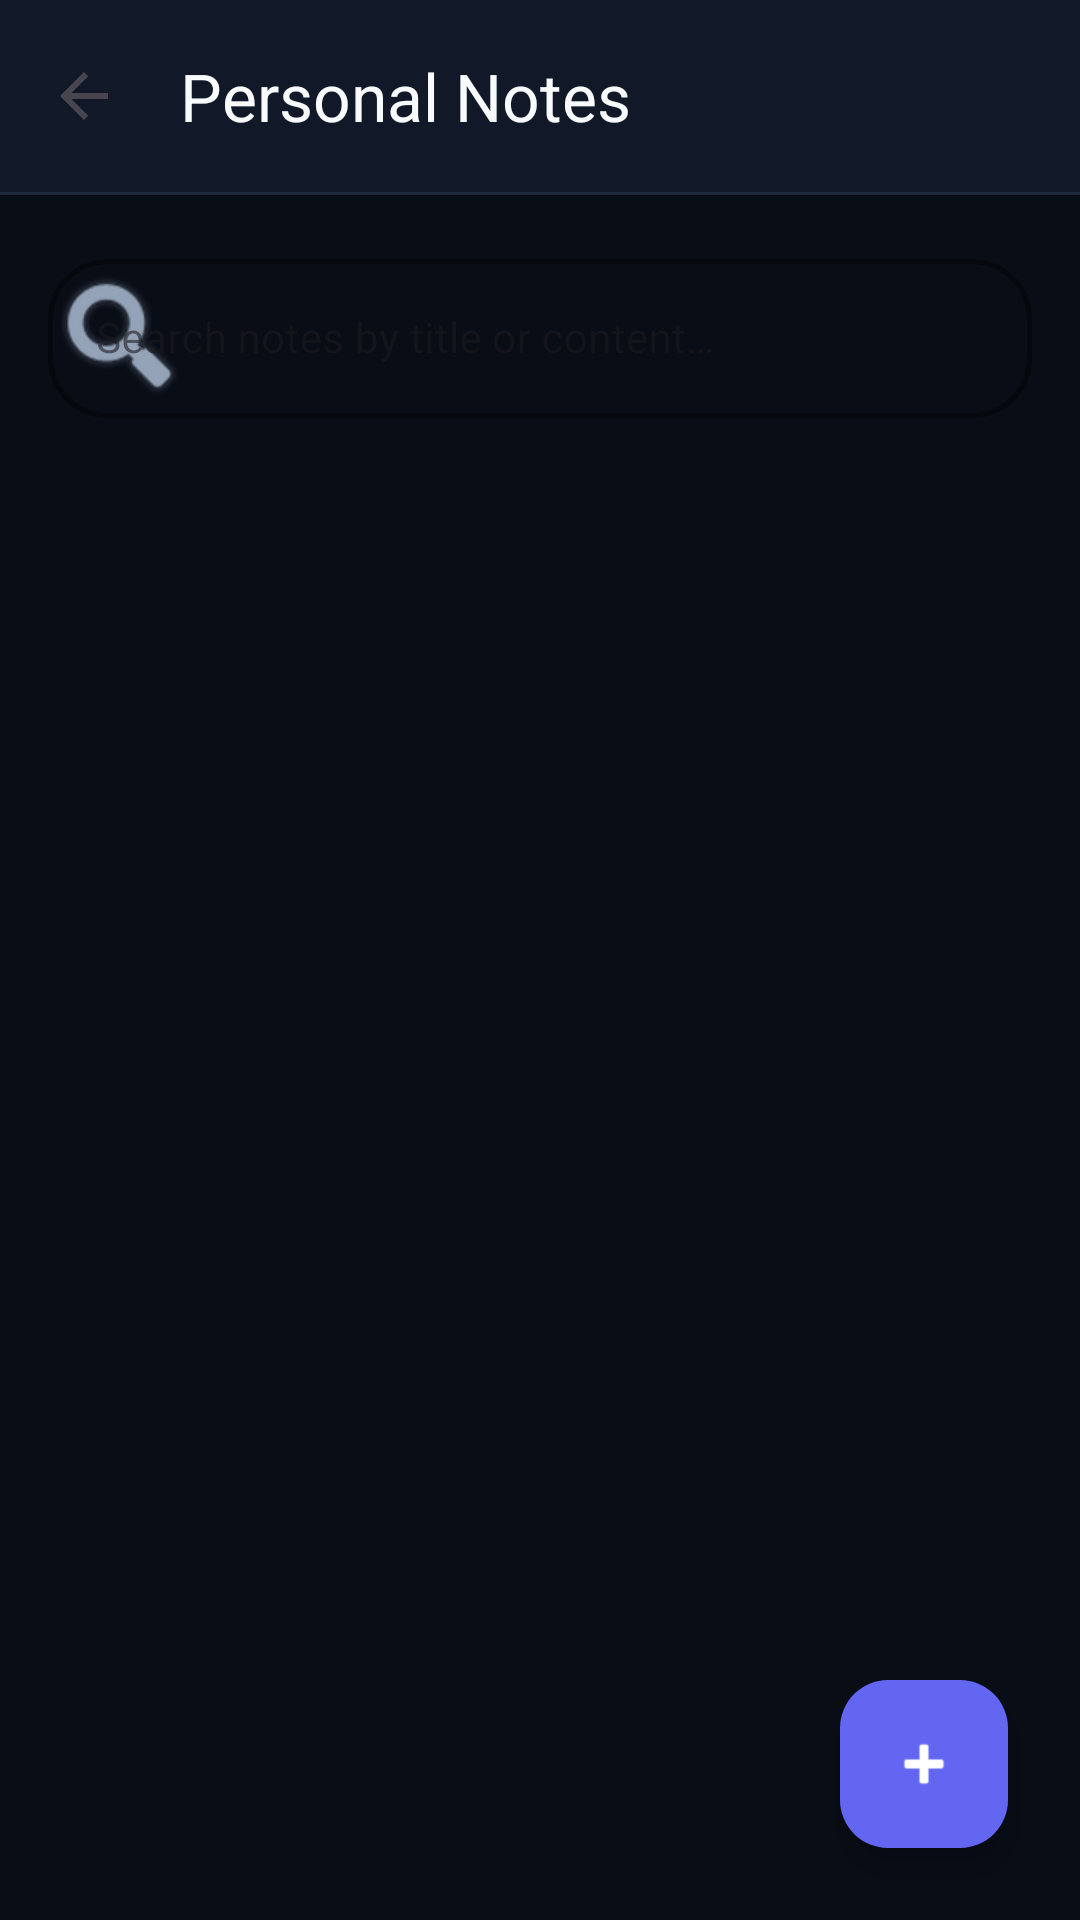

Where to tap for icons on this 1080×1920 app screen, as (x,y):
Create Note: (924,1764)
